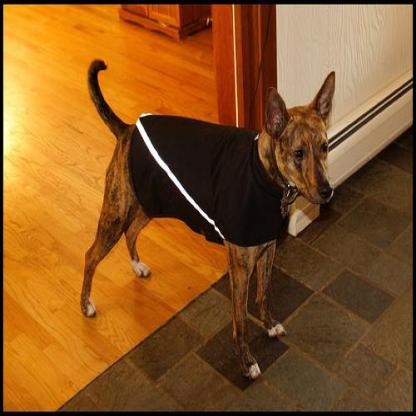basenji: (78, 56, 336, 380)
